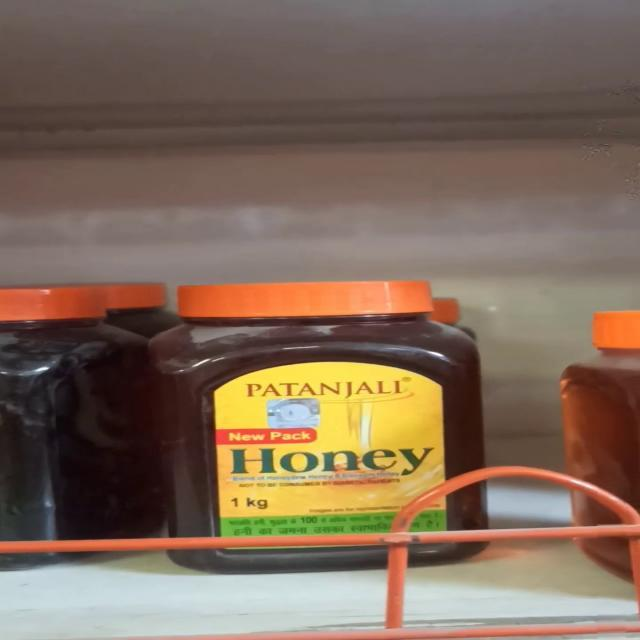Patanjali Honey: (178, 280, 483, 562)
